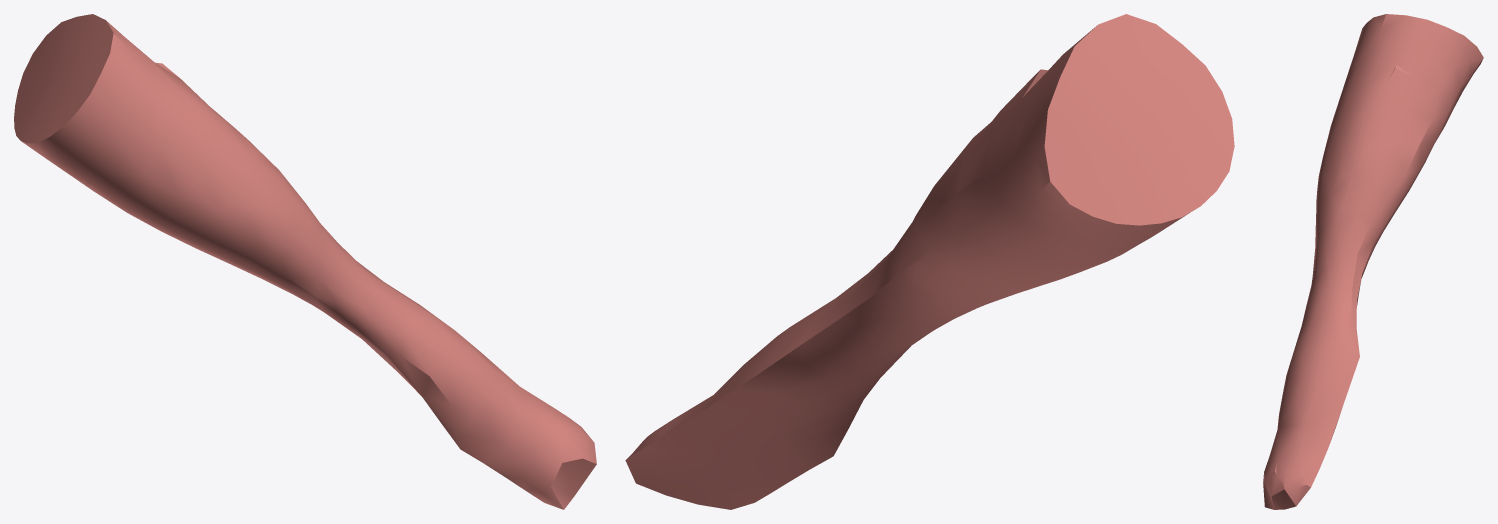
The model's file is fma39284-f_mm1941m.glb.
3 renders of one model, left to right at view 1: azimuth 30°, elevation 25°; view 2: azimuth 150°, elevation 25°; view 3: azimuth 270°, elevation 25°, orthographic. The views are drawn at different scales.
Parts seen in each view (by area): view 1: FMA39284-F_MM1941M; view 2: FMA39284-F_MM1941M; view 3: FMA39284-F_MM1941M.
Boxes of the visible parts, x1,y1,x2,y2 form: FMA39284-F_MM1941M: [14, 14, 596, 509]; FMA39284-F_MM1941M: [625, 14, 1234, 509]; FMA39284-F_MM1941M: [1263, 14, 1483, 509].
Size of the model in its own units: 0.0128 by 0.0126 by 0.00693.
